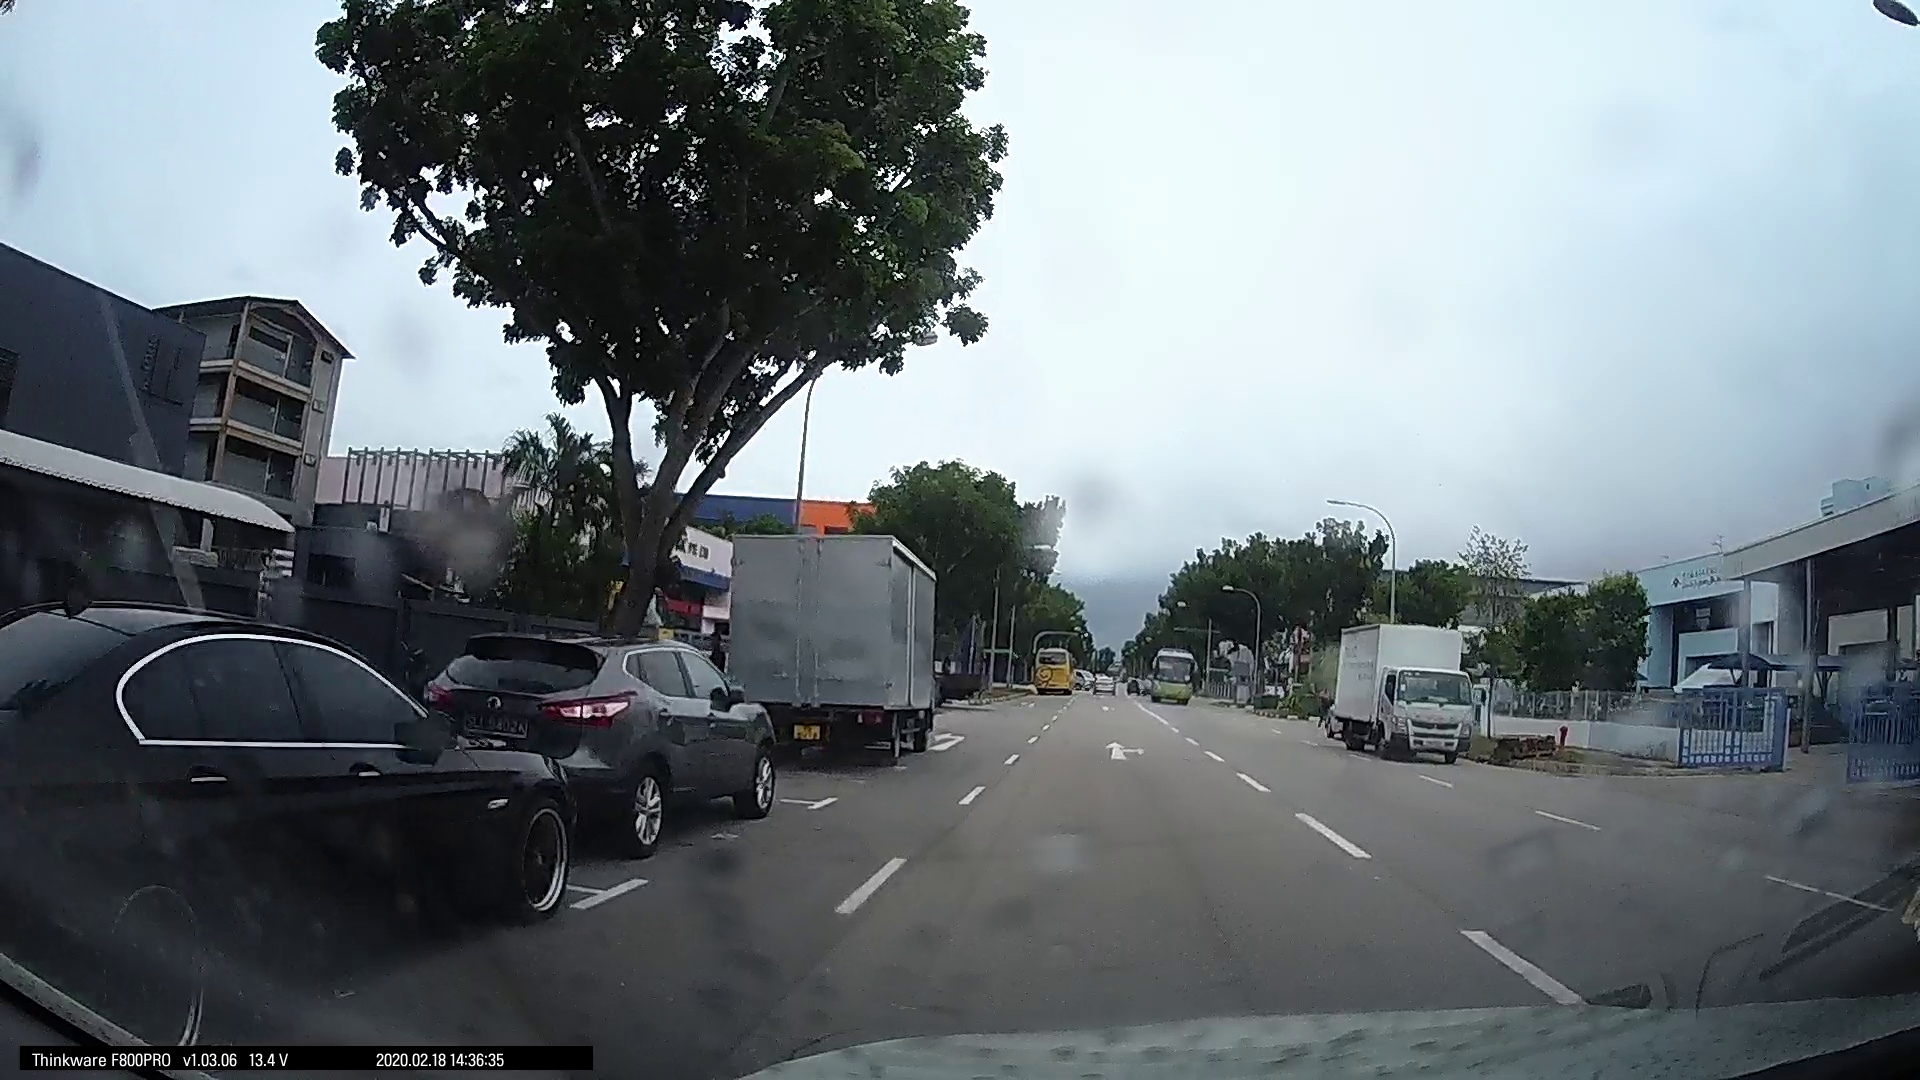Heavy Vehicle: (721, 522, 944, 766), (1325, 622, 1473, 765)
Light Vehicle: (1, 613, 574, 986), (438, 626, 778, 841), (1139, 650, 1193, 705), (1029, 644, 1083, 695)
